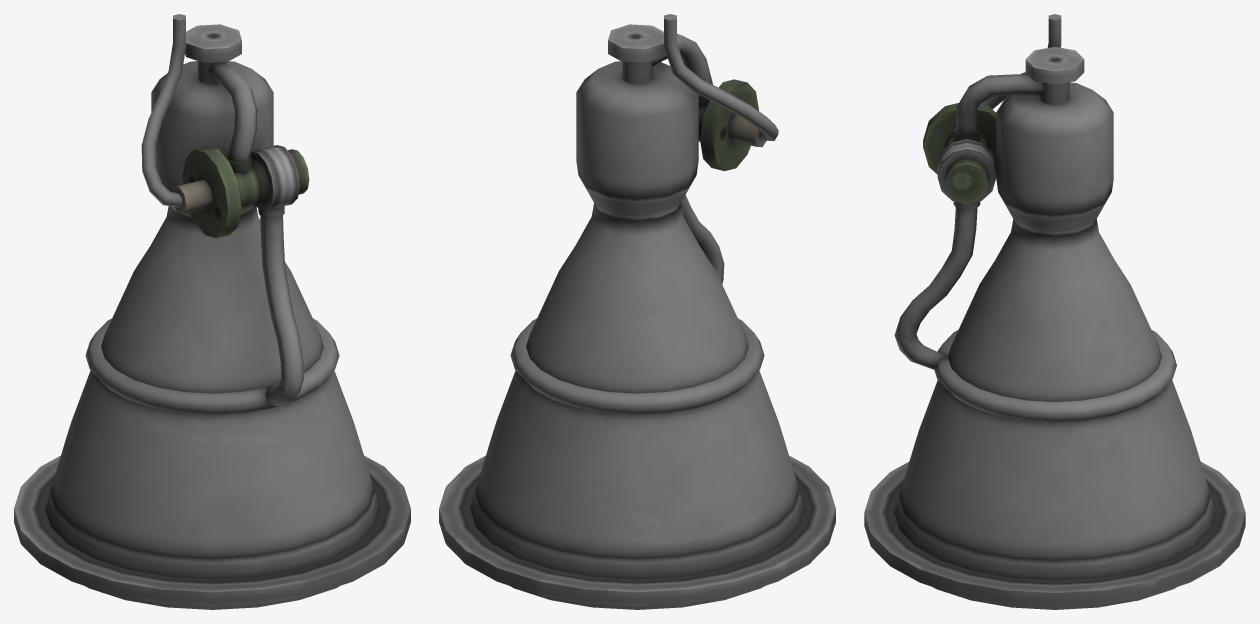
The model's file is engine_short.fbx.
The picture shows the model from 3 angles, left to right: view 1: azimuth 30°, elevation 25°; view 2: azimuth 150°, elevation 25°; view 3: azimuth 270°, elevation 25°; orthographic projection. The views are drawn at different scales.
Parts seen in each view (by area): view 1: mesh; view 2: mesh; view 3: mesh.
Part boxes in pixels (x1,y1,x2,y2): mesh: [14, 14, 410, 609]; mesh: [439, 14, 835, 609]; mesh: [864, 14, 1245, 609].
Size of the model in its own units: 0.325 by 0.4762 by 0.325.
Materials: 1 (1 with a texture image).
